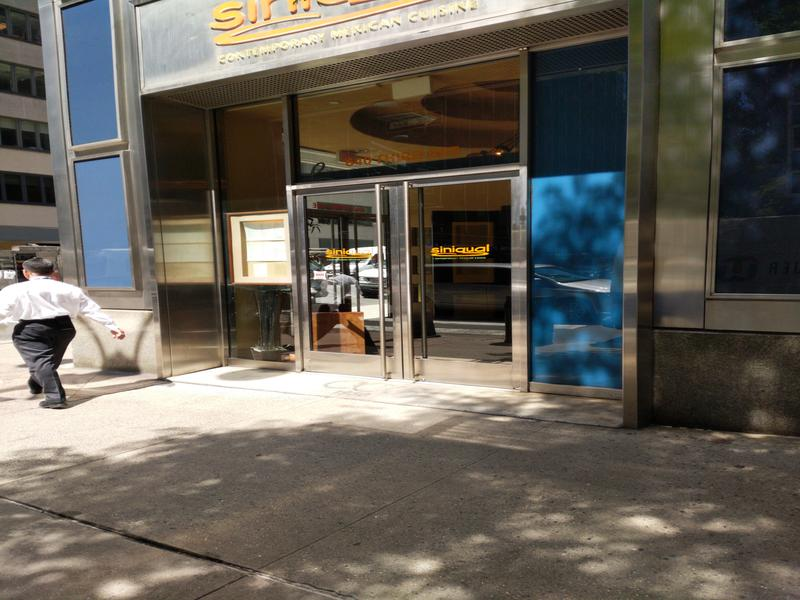double_door: (290, 174, 530, 390)
